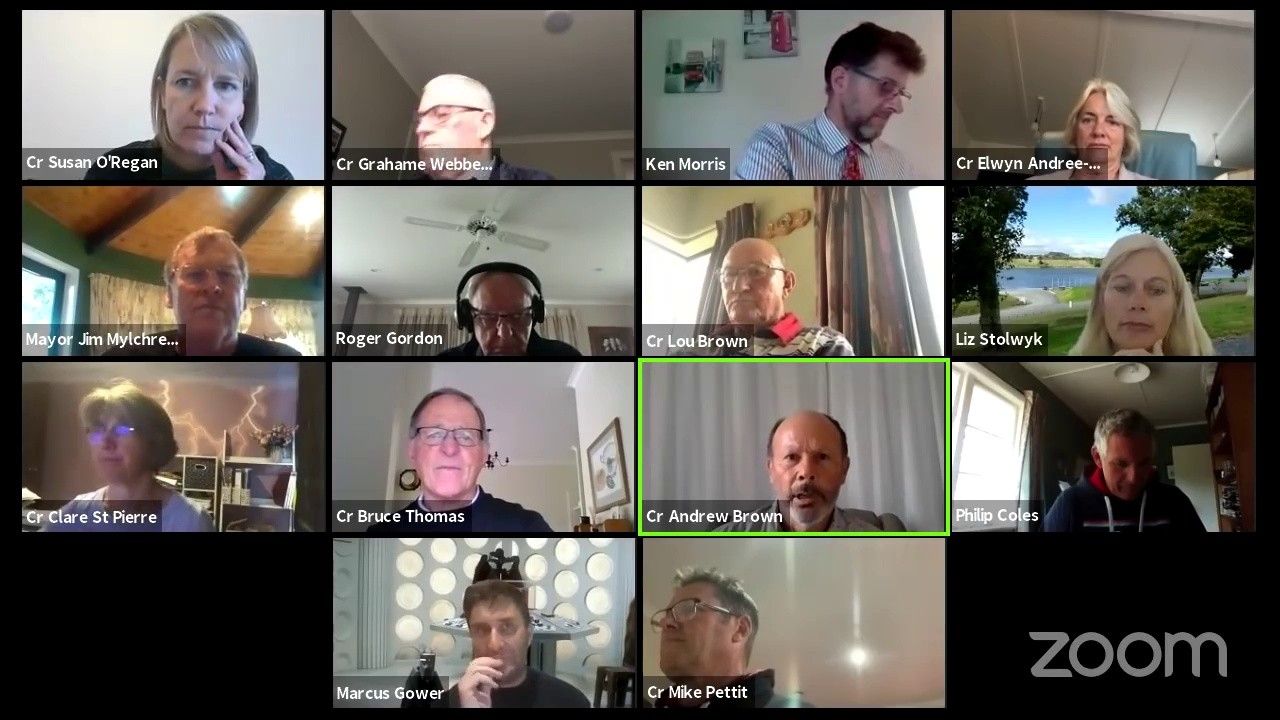Distracted: (649, 571, 756, 675), (820, 29, 912, 146), (449, 273, 554, 357), (407, 71, 495, 171), (1099, 250, 1189, 346), (81, 391, 161, 482), (1085, 410, 1160, 497)
Not Distracted: (152, 28, 251, 152), (395, 388, 504, 491), (769, 420, 852, 519), (163, 244, 245, 330), (462, 589, 538, 675), (720, 239, 803, 315), (1065, 81, 1139, 163)
